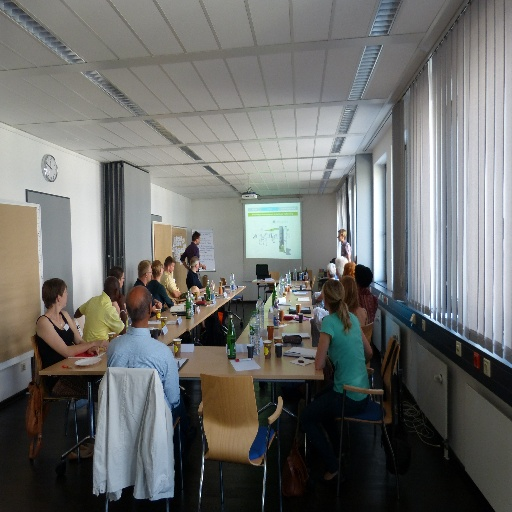hand: (325, 355, 335, 380), (96, 336, 108, 354), (116, 293, 126, 308), (88, 345, 100, 357), (153, 300, 163, 310), (201, 263, 206, 269)
